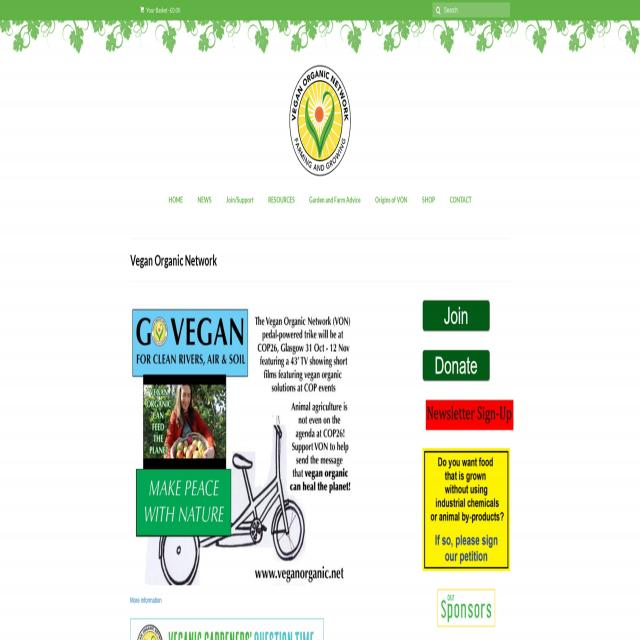button: (129, 297, 355, 585), (422, 448, 510, 571), (289, 66, 351, 176), (426, 400, 513, 430), (422, 300, 490, 332), (437, 589, 494, 627), (422, 350, 490, 381), (303, 188, 369, 212), (369, 189, 415, 211), (137, 0, 183, 21), (220, 189, 260, 211), (261, 189, 301, 211), (444, 189, 478, 211), (162, 189, 190, 211), (191, 189, 218, 211), (416, 189, 442, 211), (432, 2, 442, 18)
field: (432, 2, 510, 18)
